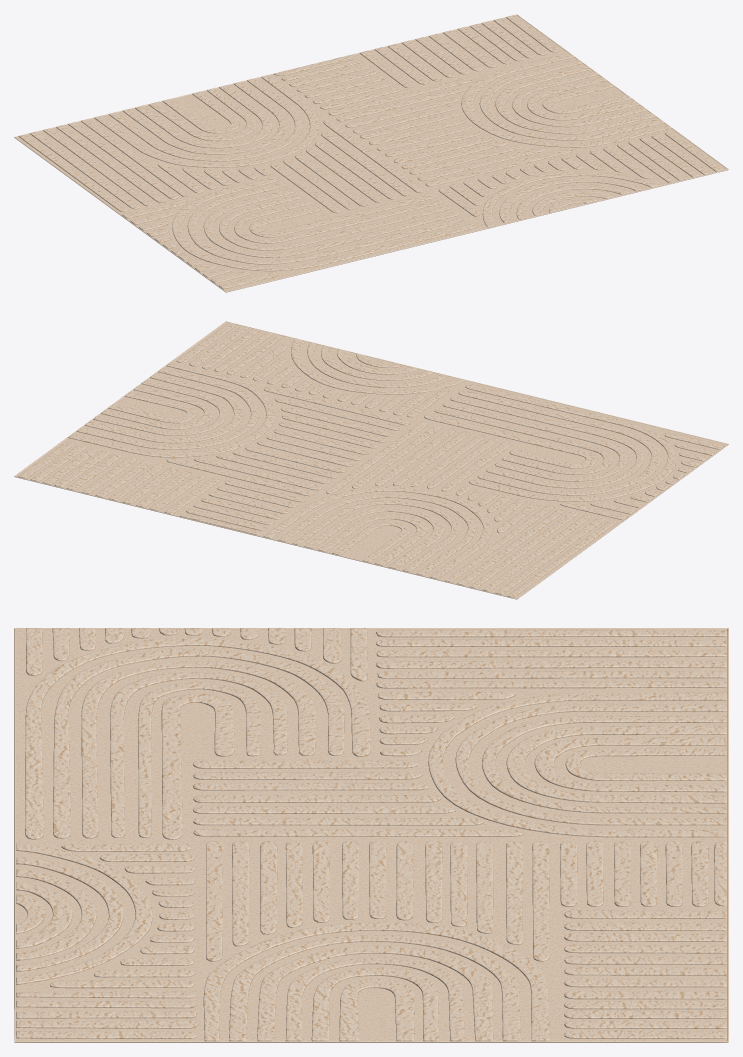
Rendered from rug.gltf.
The picture shows the model from 3 angles, top to bottom: view 1: azimuth 30°, elevation 25°; view 2: azimuth 150°, elevation 25°; view 3: azimuth 270°, elevation 25°; orthographic projection. The views are drawn at different scales.
Visible parts, largest first — view 1: Vivense_Carpet001; view 2: Vivense_Carpet001; view 3: Vivense_Carpet001.
Part boxes in pixels (left/top/right/bottom): Vivense_Carpet001: left=14, top=14, right=728, bottom=292; Vivense_Carpet001: left=14, top=321, right=728, bottom=599; Vivense_Carpet001: left=14, top=628, right=728, bottom=1042.
Size of the model in its own units: 2.21 by 0.0057 by 1.61.
Materials: 1 (1 with a texture image).
